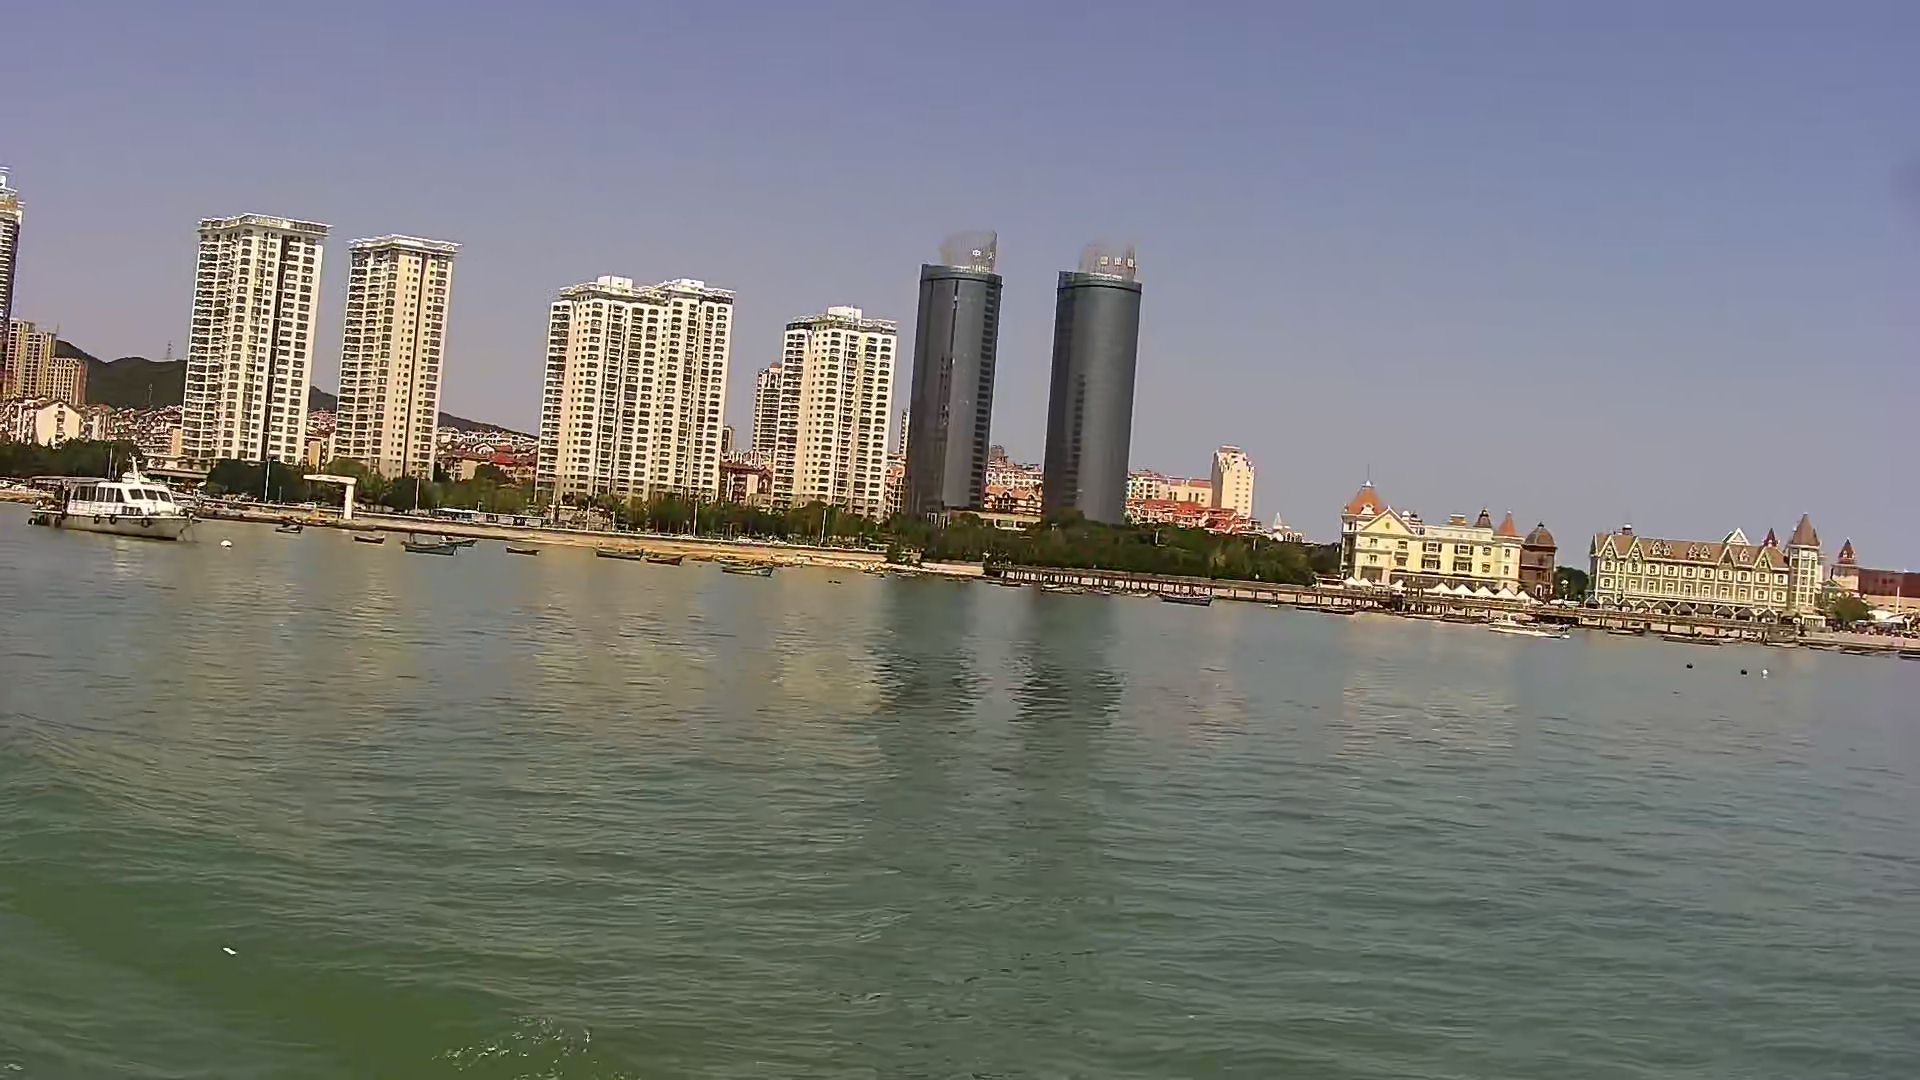ball: (215, 531, 237, 550)
boat: (404, 534, 460, 556), (721, 556, 778, 579)
ship: (25, 448, 208, 543)
